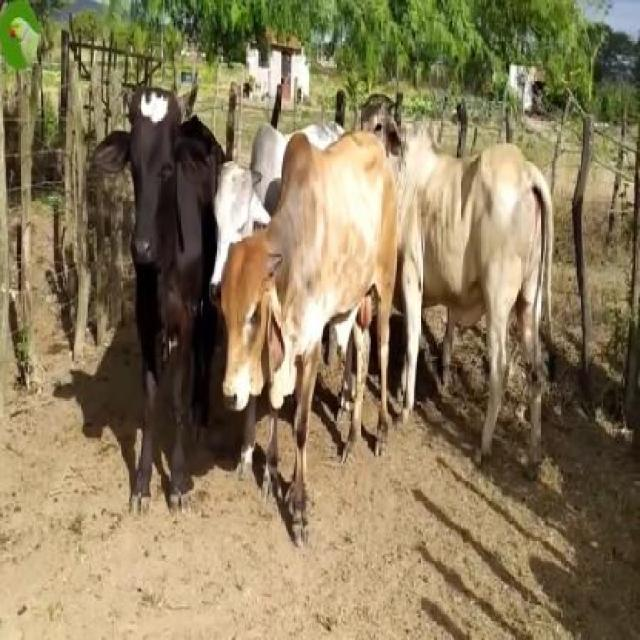Cow: (91, 77, 218, 518)
